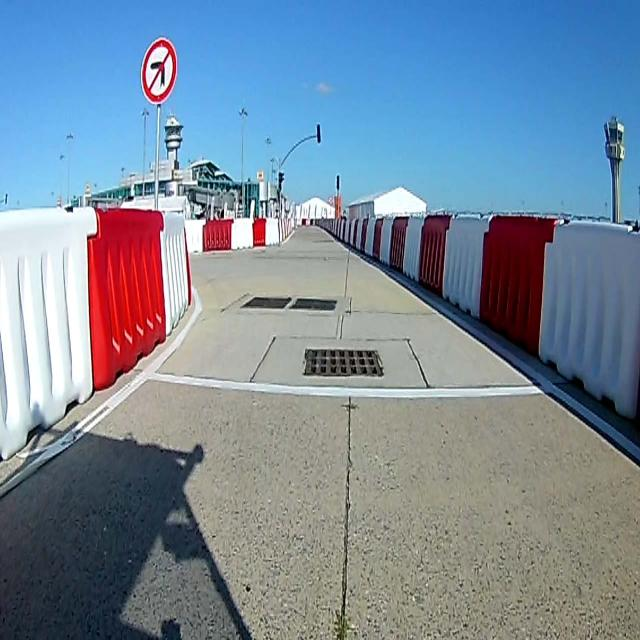soladonulmez: (142, 38, 176, 108)
